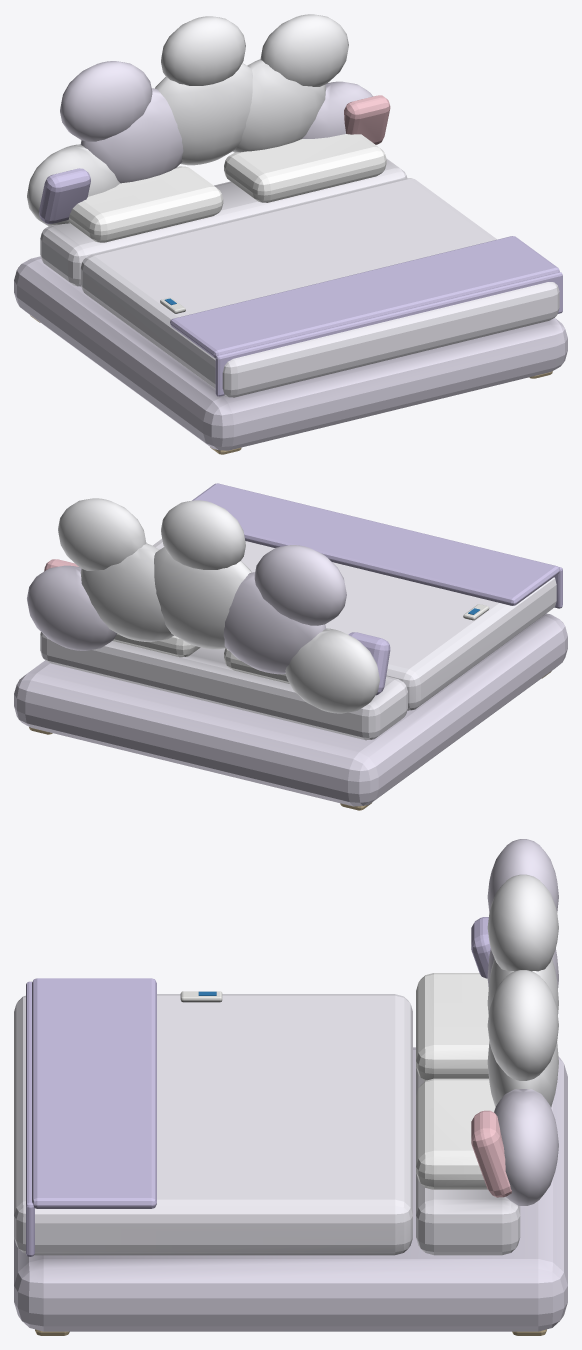
Rendered from snoozecloudBed.glb.
3 views of the same model, one above another, from view 1: azimuth 30°, elevation 25°; view 2: azimuth 150°, elevation 25°; view 3: azimuth 270°, elevation 25° (orthographic). The views are drawn at different scales.
Parts seen in each view (by area): view 1: body, head_section; view 2: body, head_section; view 3: body, head_section.
Boxes of the visible parts, x1,y1,x2,y2 form: body: [14, 14, 567, 454]; head_section: [39, 95, 407, 286]; body: [14, 483, 567, 810]; head_section: [40, 559, 407, 740]; body: [14, 839, 567, 1335]; head_section: [416, 917, 520, 1255].
Bounding box in the file's own units: 1.86 × 1.29 × 1.86.
